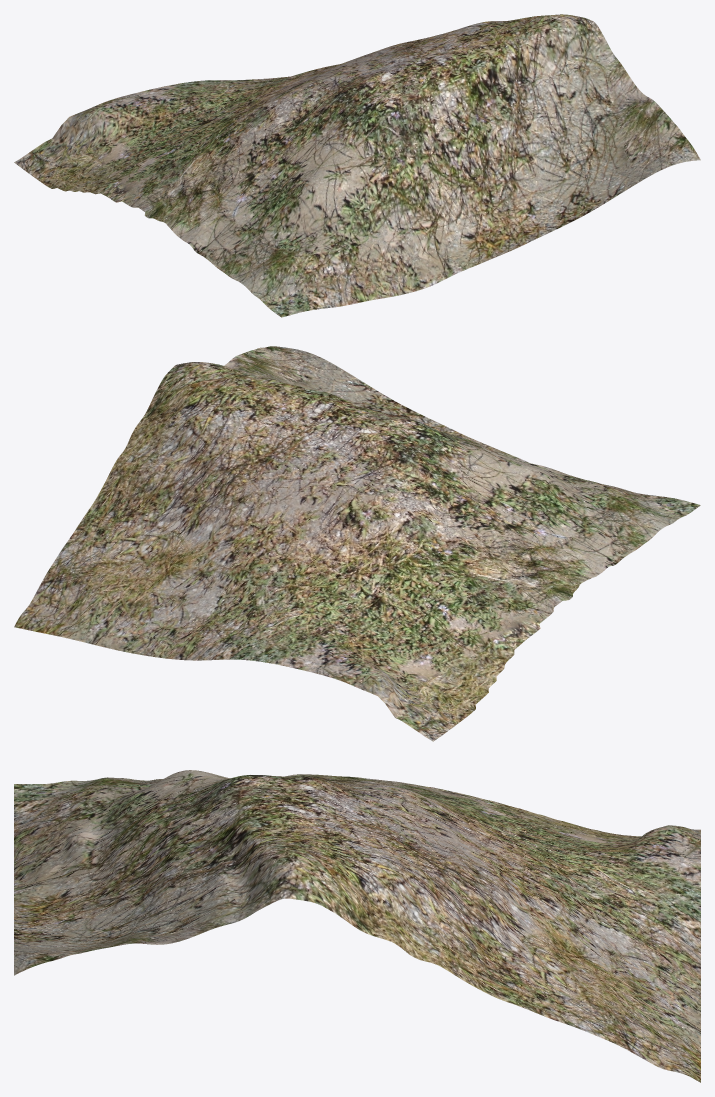
Rendered from ground.dae.
3 views of the same model, one above another, from view 1: azimuth 30°, elevation 25°; view 2: azimuth 150°, elevation 25°; view 3: azimuth 270°, elevation 25° (orthographic). The views are drawn at different scales.
Visible parts, largest first — view 1: Ground; view 2: Ground; view 3: Ground.
Boxes of the visible parts, x1,y1,x2,y2 form: Ground: (14, 14, 700, 317); Ground: (14, 346, 700, 741); Ground: (14, 770, 700, 1082).
Bounding box in the file's own units: 200 × 220 × 75.62.
Materials: 1 (1 with a texture image).
